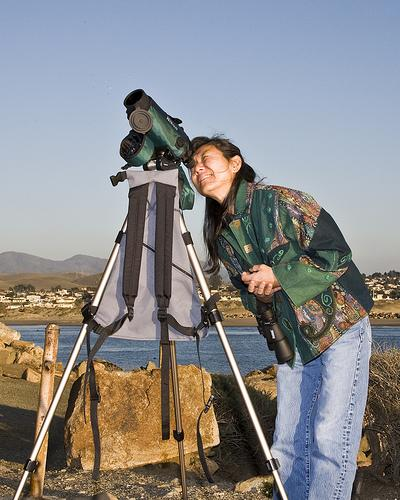person: (188, 136, 371, 497)
